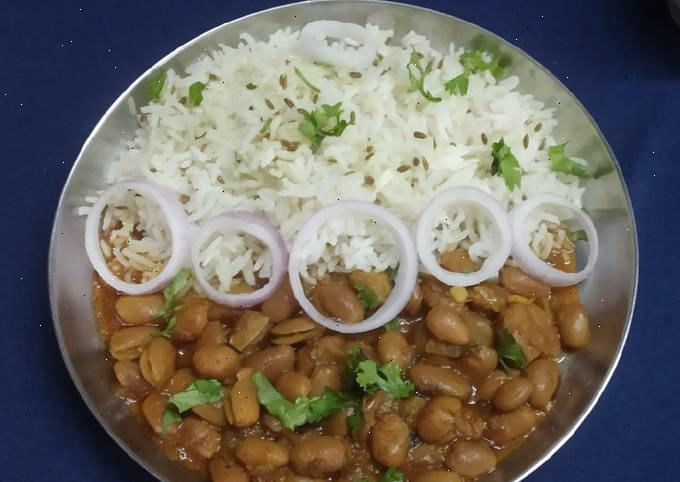rajma: (153, 301, 577, 482)
rice: (148, 35, 556, 209)
